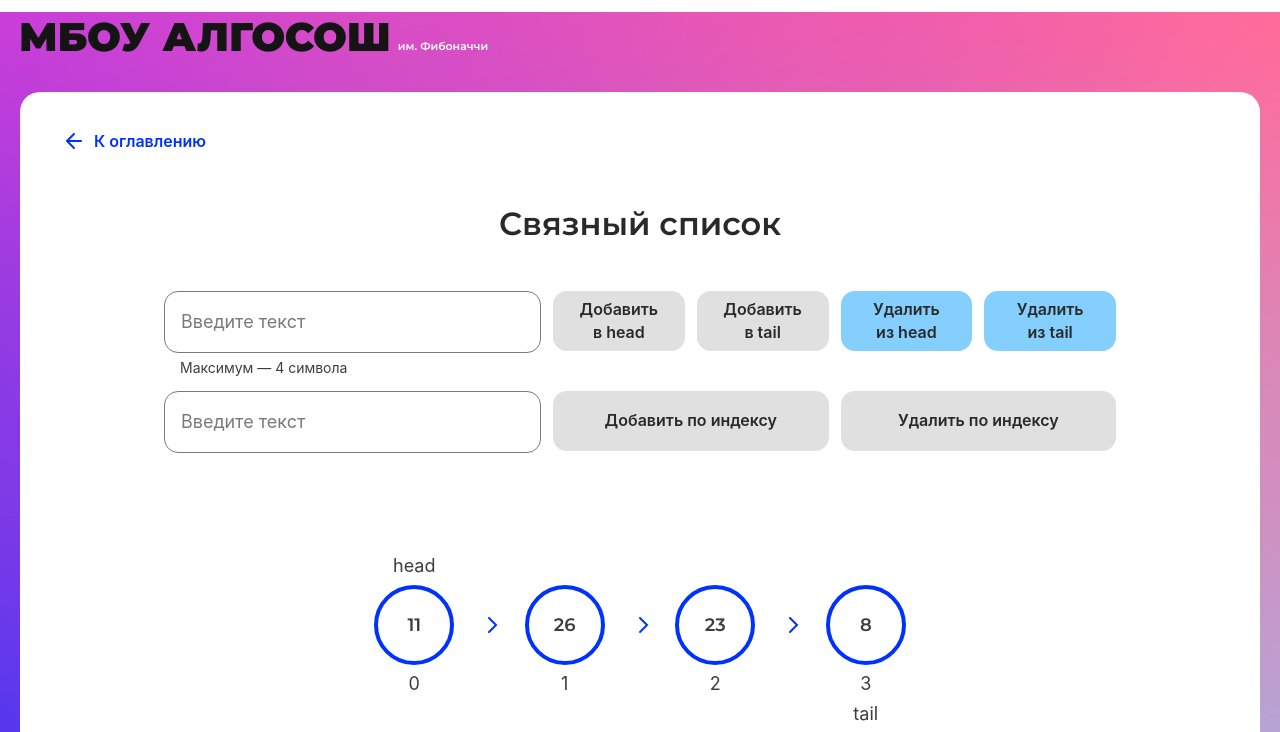
Test: Проверка работы связного списка: › Удаление элемента из head
Check: the element with test id "delHead" is enabled
Click the button with test id "delHead". click: x=907, y=321
box: [841,291,973,351]
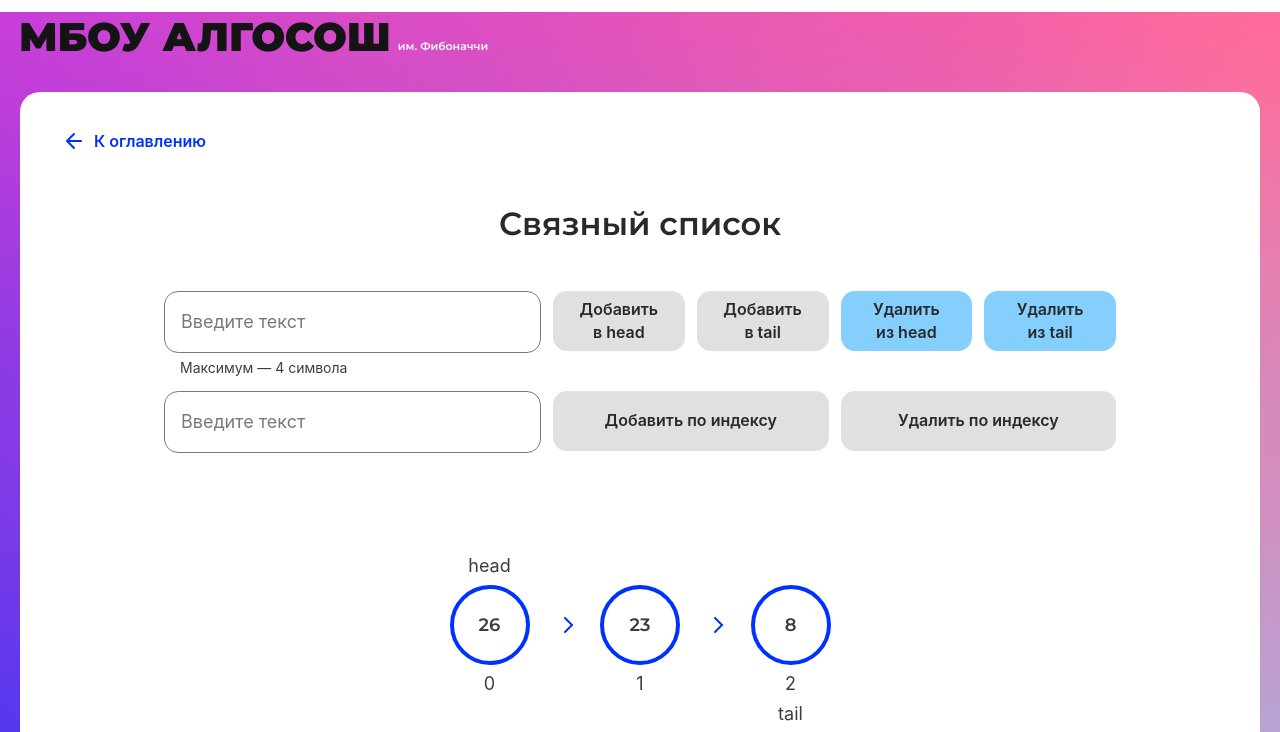
Check: the element with test id "circle" reads "23", box [600,585,680,665]
Check: the number of elements with test id "circle" is 3, box [450,585,530,665]; [600,585,680,665]; [750,585,830,665]
